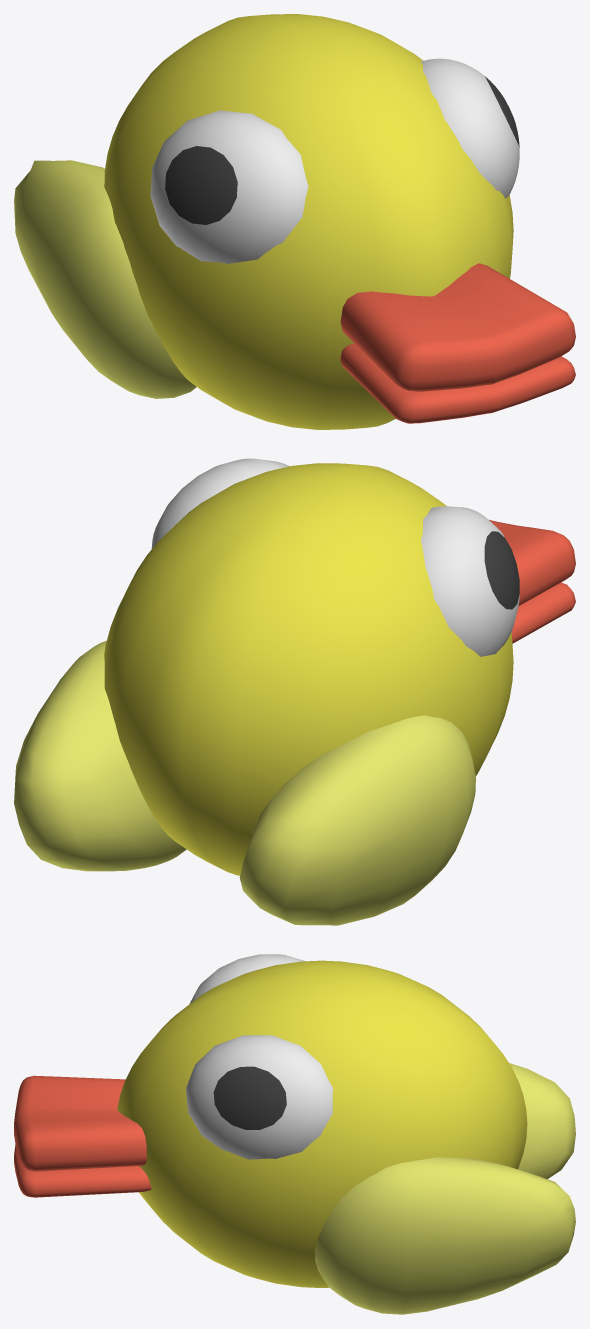
The model's file is flappy.fbx.
The picture shows the model from 3 angles, top to bottom: view 1: azimuth 30°, elevation 25°; view 2: azimuth 150°, elevation 25°; view 3: azimuth 270°, elevation 25°; orthographic projection. The views are drawn at different scales.
Visible parts, largest first — view 1: Sphere, Cube, Sphere.001; view 2: Sphere, Sphere.001, Cube; view 3: Sphere, Sphere.001, Cube.
Boxes of the visible parts, bbox=[...] form: Sphere: bbox=[104, 14, 519, 429]; Cube: bbox=[340, 263, 575, 423]; Sphere.001: bbox=[14, 160, 196, 398]; Sphere: bbox=[104, 458, 519, 875]; Sphere.001: bbox=[14, 641, 475, 925]; Cube: bbox=[489, 520, 575, 643]; Sphere: bbox=[117, 954, 527, 1287]; Sphere.001: bbox=[315, 1063, 575, 1314]; Cube: bbox=[14, 1075, 151, 1197].
Size of the model in its own units: 220 by 199 by 338.
